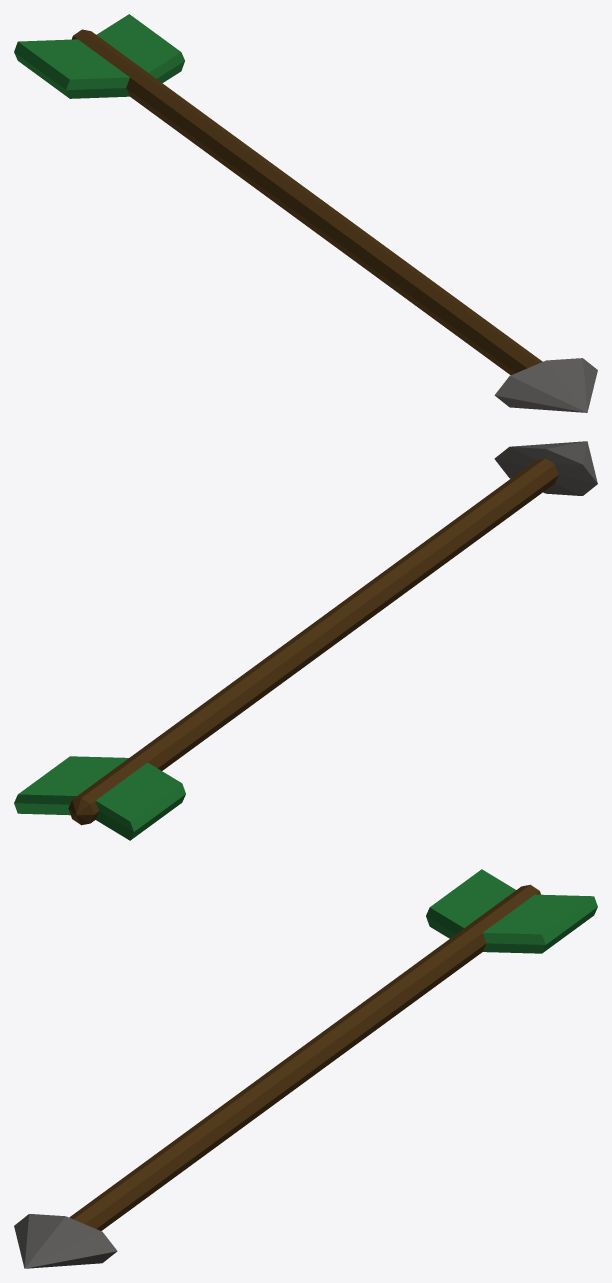
File: ForrestArrow.fbx
3 renders of one model, top to bottom at view 1: azimuth 30°, elevation 25°; view 2: azimuth 150°, elevation 25°; view 3: azimuth 330°, elevation 25°, orthographic.
Parts seen in each view (by area): view 1: Cylinder; view 2: Cylinder; view 3: Cylinder.
Part boxes in pixels (box(x1,y1,x2,y2)): Cylinder: box(14, 14, 597, 412); Cylinder: box(14, 441, 597, 840); Cylinder: box(14, 869, 597, 1268).
Size of the model in its own units: 24.72 by 8.83 by 184.
